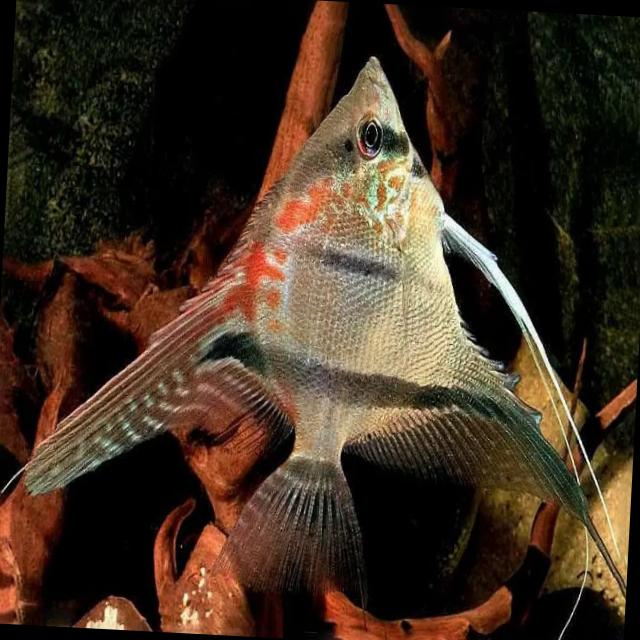AngelFish: (14, 34, 640, 597)
